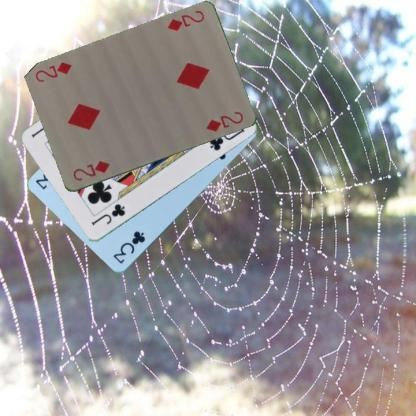2d: (70, 157, 111, 183), (164, 8, 206, 33)
3c: (110, 229, 147, 265)
Jc: (89, 201, 127, 227)
